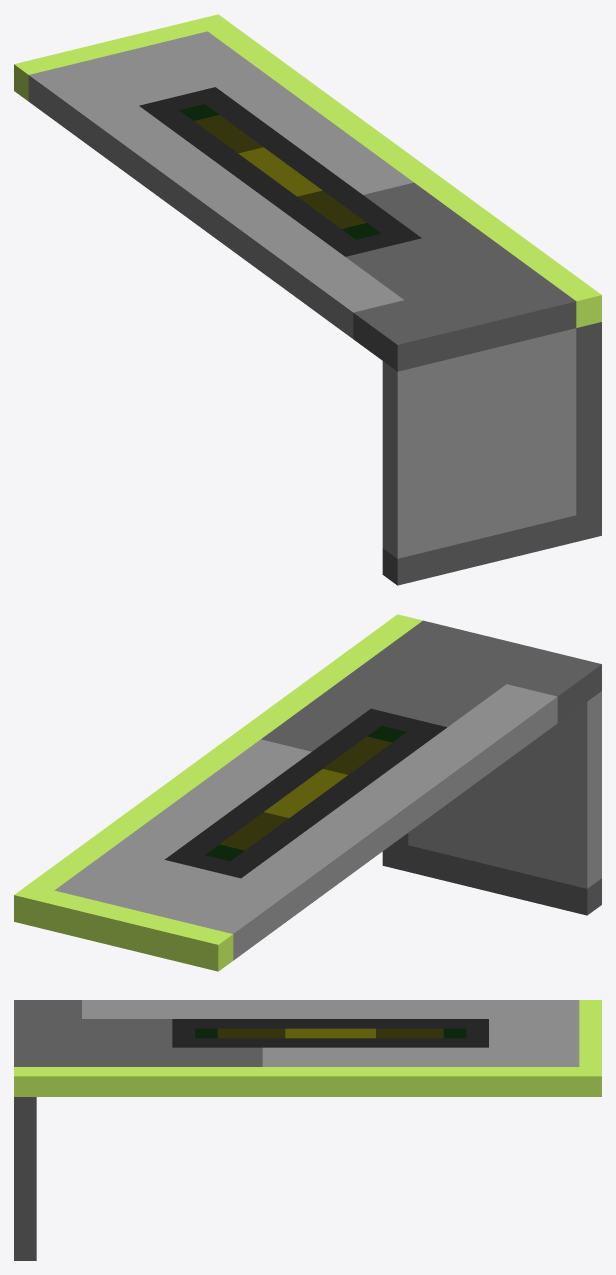
The model's file is Computer Desk Activated.obj.
3 views of the same model, one above another, from view 1: azimuth 30°, elevation 25°; view 2: azimuth 150°, elevation 25°; view 3: azimuth 270°, elevation 25° (orthographic). The views are drawn at different scales.
Size of the model in its own units: 8 by 9 by 26.
Materials: 1 (1 with a texture image).
